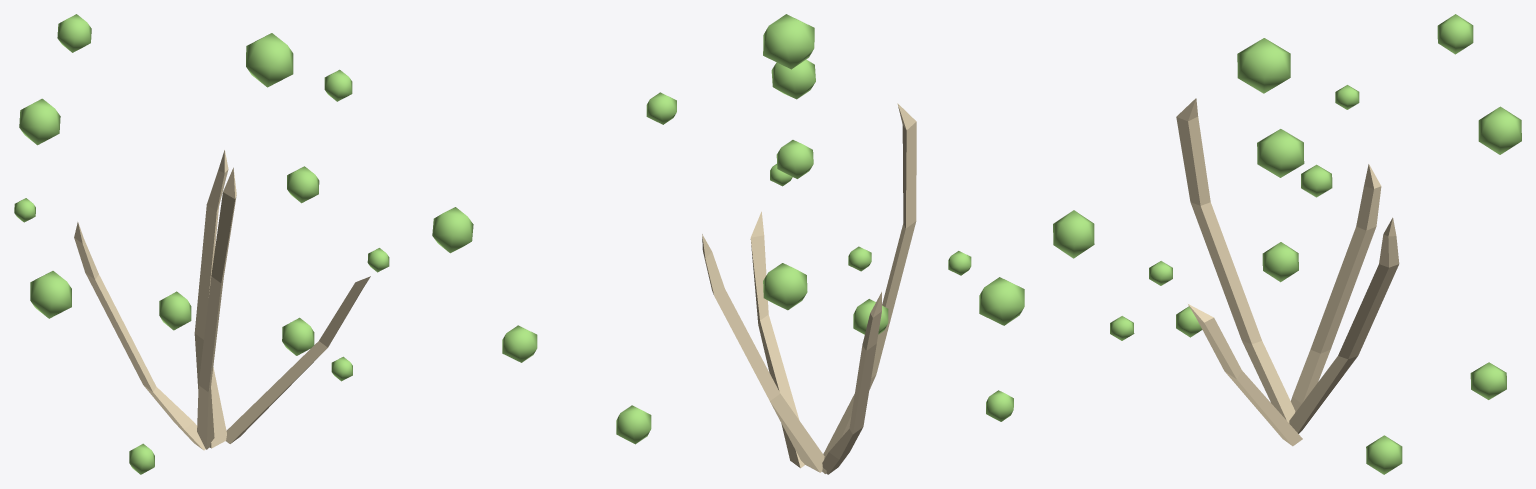
3 views of the same model, side by side, from view 1: azimuth 30°, elevation 25°; view 2: azimuth 150°, elevation 25°; view 3: azimuth 270°, elevation 25° (orthographic). The views are drawn at different scales.
Visible parts, largest first — view 1: Gengon001, Sphere208, Sphere204, Sphere206, Sphere210, Sphere207, Sphere213, Sphere211, Sphere217, Sphere209, Sphere203; view 2: Gengon001, Sphere208, Sphere204, Sphere206, Sphere210, Sphere207, Sphere211, Sphere217, Sphere209, Sphere213, Sphere203; view 3: Gengon001, Sphere208, Sphere204, Sphere206, Sphere210, Sphere207, Sphere213, Sphere211, Sphere217, Sphere209, Sphere203.
Part boxes in pixels (<box>): Gengon001: <box>74,150,370,450</box>; Sphere208: <box>246,33,293,87</box>; Sphere204: <box>30,271,71,318</box>; Sphere206: <box>19,98,60,145</box>; Sphere210: <box>432,207,473,253</box>; Sphere207: <box>57,14,91,52</box>; Sphere213: <box>159,291,191,330</box>; Sphere211: <box>282,317,314,355</box>; Sphere217: <box>287,166,319,203</box>; Sphere209: <box>324,69,352,101</box>; Sphere203: <box>129,443,154,474</box>; Gengon001: <box>702,103,916,474</box>; Sphere208: <box>763,14,814,69</box>; Sphere204: <box>979,277,1024,325</box>; Sphere206: <box>763,263,807,310</box>; Sphere210: <box>771,59,815,99</box>; Sphere207: <box>776,140,813,178</box>; Sphere211: <box>616,405,651,444</box>; Sphere217: <box>502,325,537,362</box>; Sphere209: <box>646,92,676,124</box>; Sphere213: <box>853,299,888,334</box>; Sphere203: <box>986,390,1013,421</box>; Gengon001: <box>1176,98,1399,446</box>; Sphere208: <box>1237,38,1290,93</box>; Sphere204: <box>1257,129,1304,177</box>; Sphere206: <box>1478,106,1521,154</box>; Sphere210: <box>1053,210,1094,258</box>; Sphere207: <box>1437,14,1473,54</box>; Sphere213: <box>1262,242,1298,282</box>; Sphere211: <box>1366,435,1402,474</box>; Sphere217: <box>1470,362,1506,399</box>; Sphere209: <box>1301,164,1332,197</box>; Sphere203: <box>1176,306,1202,337</box>.
Bounding box in the file's own units: 8.7 × 8.6 × 8.9.
